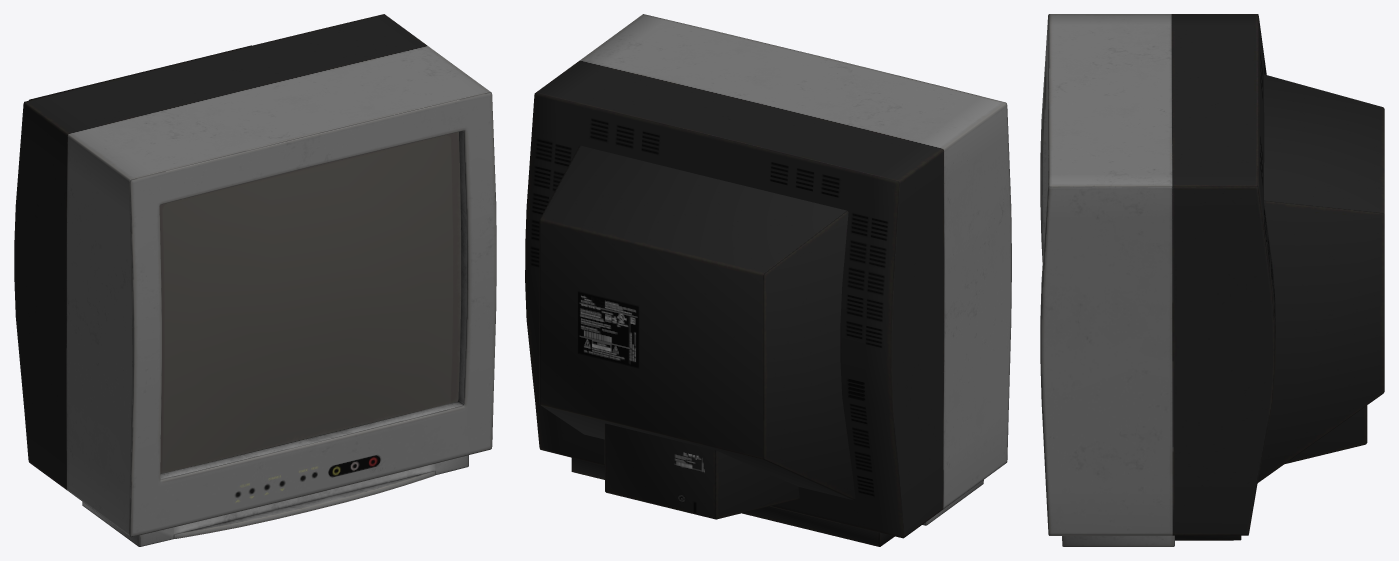
3 renders of one model, left to right at view 1: azimuth 30°, elevation 25°; view 2: azimuth 150°, elevation 25°; view 3: azimuth 270°, elevation 25°, orthographic. The views are drawn at different scales.
Parts seen in each view (by area): view 1: Plane003, Plane002, Plane001; view 2: Plane003, Plane0011111, Plane004, Plane005; view 3: Plane003, Plane0011111, Plane004, Plane001.
Part boxes in pixels (x1,y1,x2,y2): Plane003: [14, 14, 496, 537]; Plane002: [159, 132, 461, 474]; Plane001: [82, 455, 468, 546]; Plane003: [525, 14, 1011, 538]; Plane0011111: [539, 145, 855, 500]; Plane004: [604, 423, 799, 519]; Plane005: [571, 458, 894, 546]; Plane003: [1040, 14, 1275, 535]; Plane0011111: [1257, 74, 1384, 482]; Plane004: [1285, 405, 1367, 463]; Plane001: [1062, 535, 1174, 546].
Bounding box in the file's own units: 0.4655 × 0.4619 × 0.3902.
Materials: 1 (1 with a texture image).
